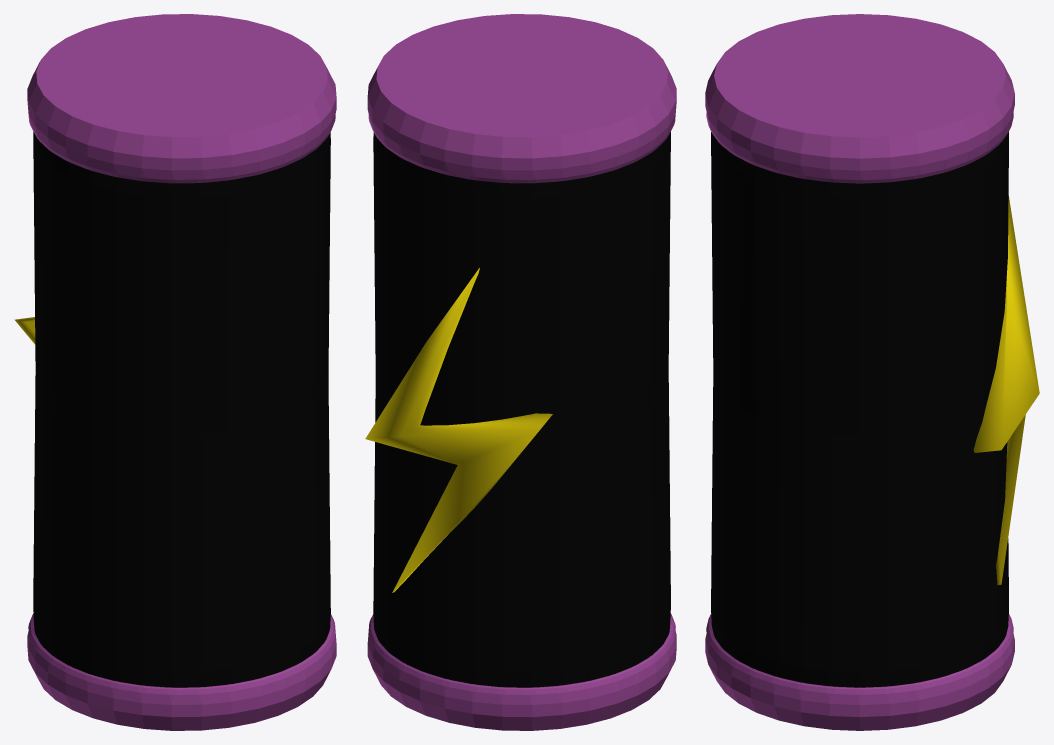
Rendered from LightStep.fbx.
3 views of the same model, side by side, from view 1: azimuth 30°, elevation 25°; view 2: azimuth 150°, elevation 25°; view 3: azimuth 270°, elevation 25° (orthographic).
Visible parts, largest first — view 1: LS; view 2: LS; view 3: LS.
Boxes of the visible parts, box(x1,y1,x2,y2) form: LS: box(14, 14, 336, 730); LS: box(365, 14, 676, 730); LS: box(705, 14, 1039, 730).
Size of the model in its own units: 209 by 442 by 226.
